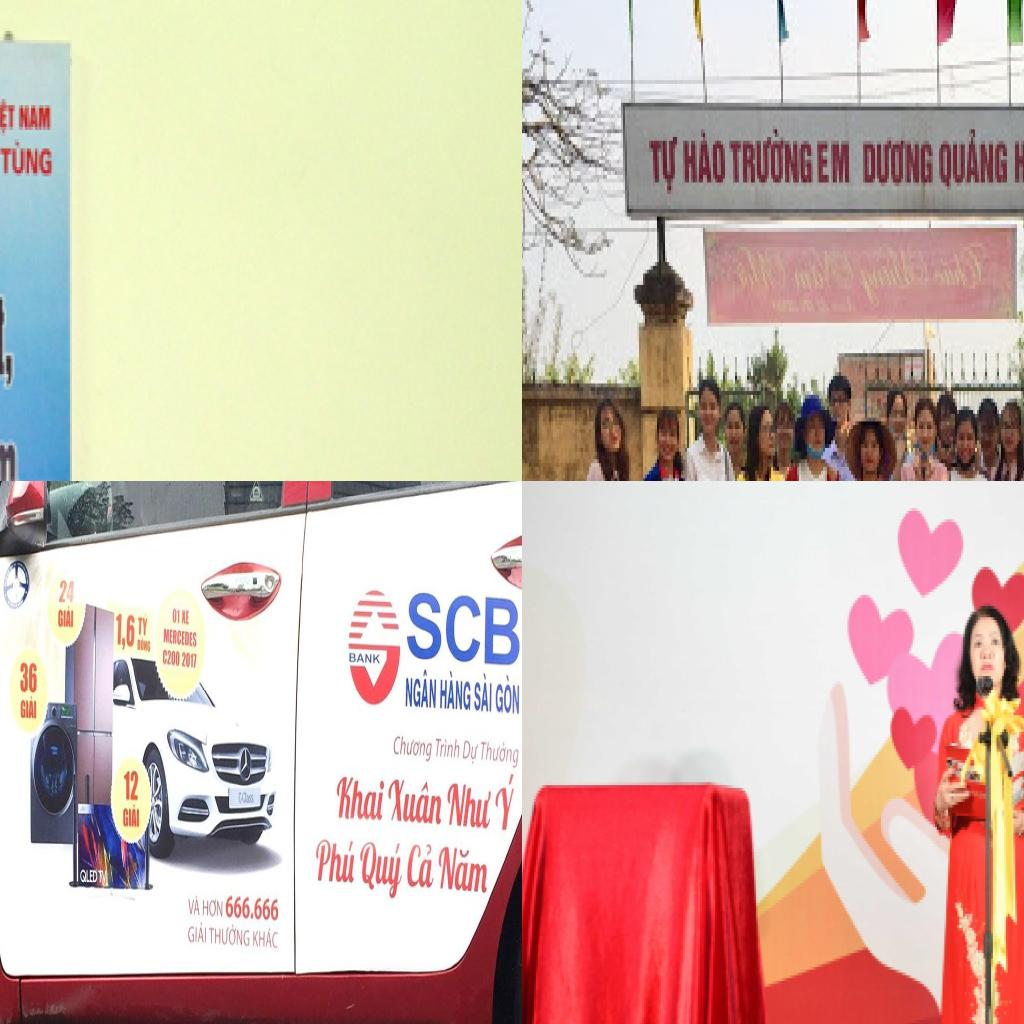text: (405, 582, 522, 668), (727, 122, 817, 190), (937, 125, 1011, 194), (861, 133, 937, 190), (359, 830, 405, 906), (388, 772, 444, 828), (436, 838, 490, 896), (683, 129, 729, 194), (334, 768, 387, 824), (313, 828, 357, 888), (815, 129, 855, 190), (446, 779, 492, 832), (0, 139, 55, 182), (0, 284, 20, 402), (647, 133, 681, 202), (224, 891, 280, 924), (0, 420, 30, 481), (405, 840, 436, 896), (392, 727, 434, 766), (494, 770, 518, 838), (403, 666, 438, 712), (479, 736, 521, 773), (438, 669, 472, 712), (18, 102, 54, 136), (208, 921, 250, 950), (494, 671, 520, 716), (473, 670, 495, 716), (114, 608, 136, 654), (162, 624, 197, 650), (251, 926, 281, 954), (433, 732, 461, 760), (18, 659, 40, 694), (0, 99, 19, 139), (1013, 129, 1024, 189), (17, 692, 39, 722), (123, 766, 140, 804), (186, 919, 208, 948), (56, 576, 76, 606), (347, 650, 382, 667), (462, 735, 480, 767), (201, 895, 223, 920), (121, 804, 141, 829), (57, 605, 75, 631), (161, 648, 181, 670), (136, 611, 150, 638), (180, 650, 198, 670), (80, 866, 98, 886), (237, 788, 255, 808), (187, 894, 201, 919), (137, 636, 151, 654), (171, 604, 181, 626), (180, 606, 190, 628), (98, 869, 108, 885)
